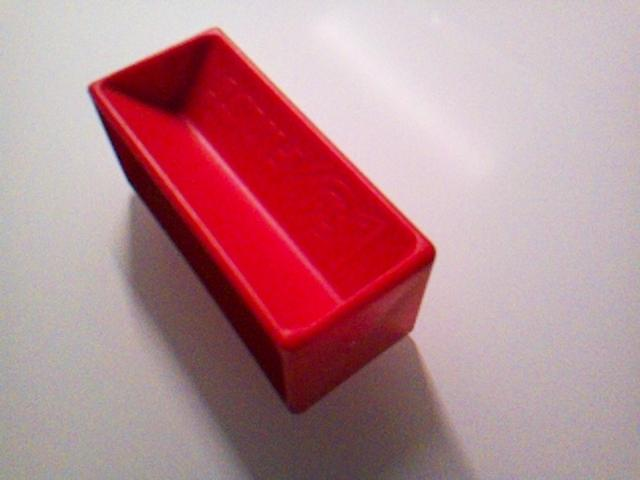red: (87, 26, 438, 414)
